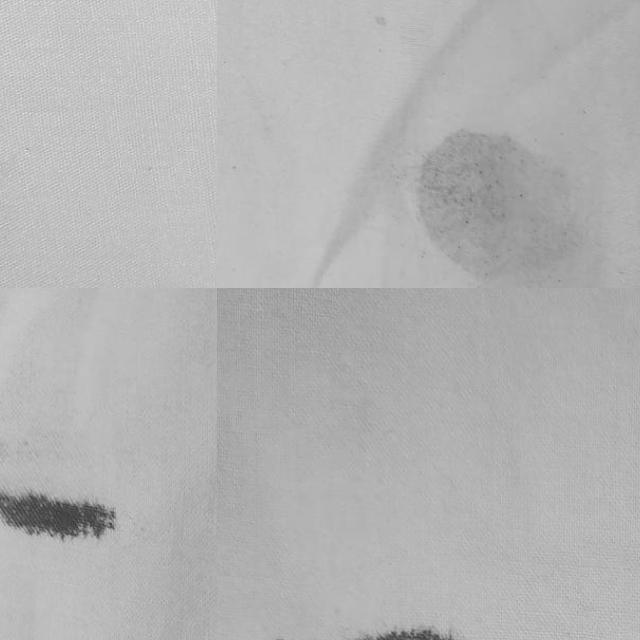Thread_other: (401, 84, 616, 288), (217, 541, 565, 640), (0, 437, 145, 584)
